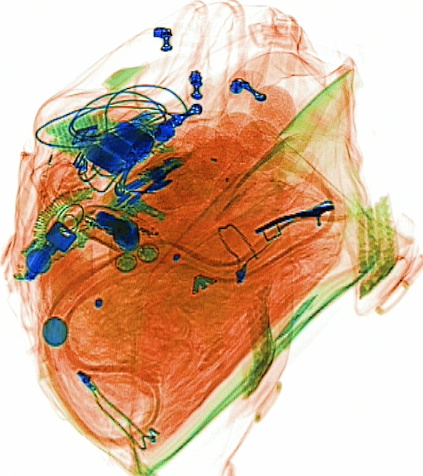powerbank: (81, 108, 162, 177)
